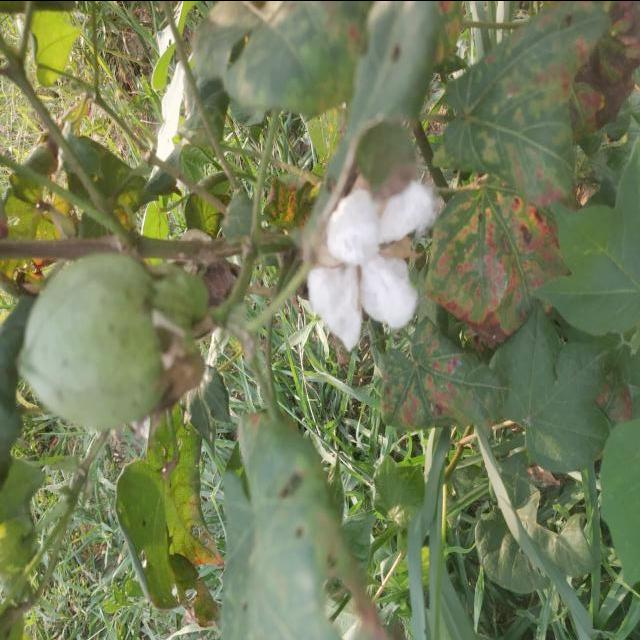Early Boll: (11, 250, 185, 450)
Matured Cotton Boll: (301, 165, 433, 347)
